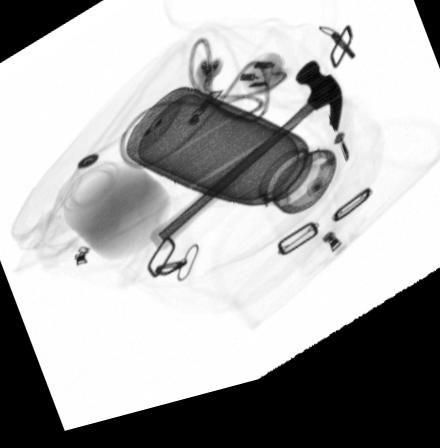Hammer: (148, 74, 343, 260)
